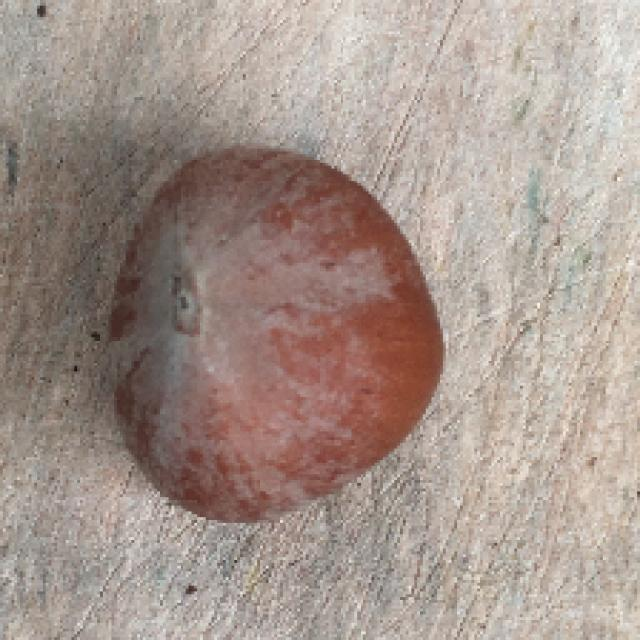qualityHazelnut: (106, 144, 446, 529)
